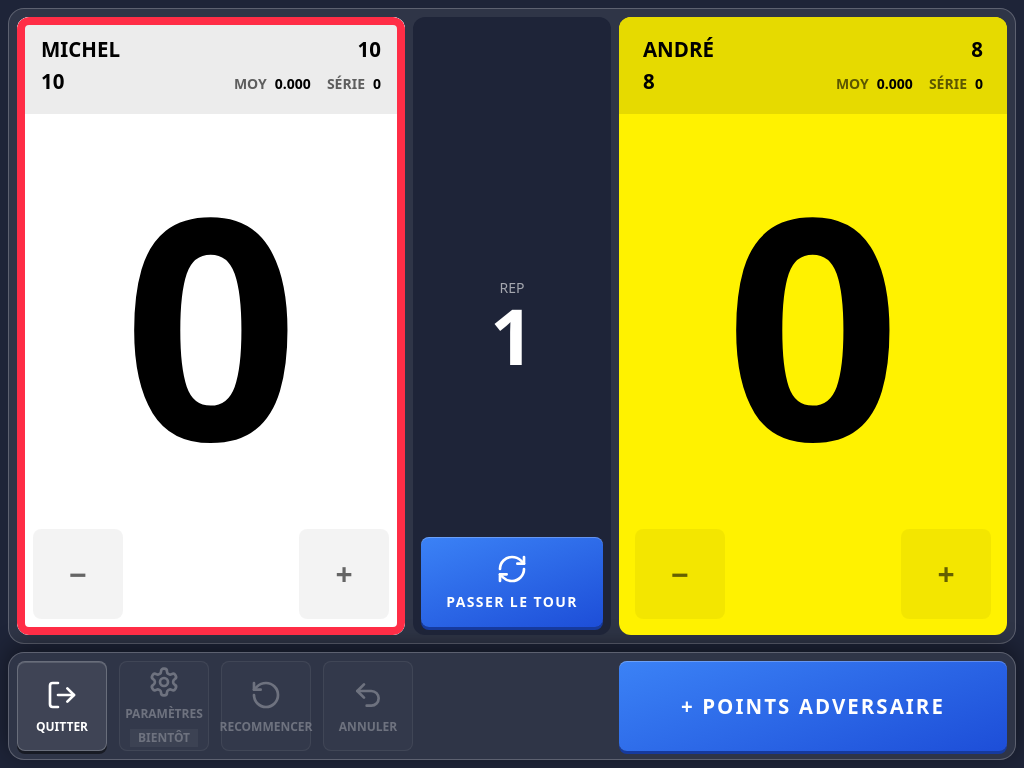
GameView — fin de partie › offers the equalizing reprise when the white player reaches his distance
Press the mouse on the button with test id "add-points-button" at (813, 706), box [619,661,1007,751]
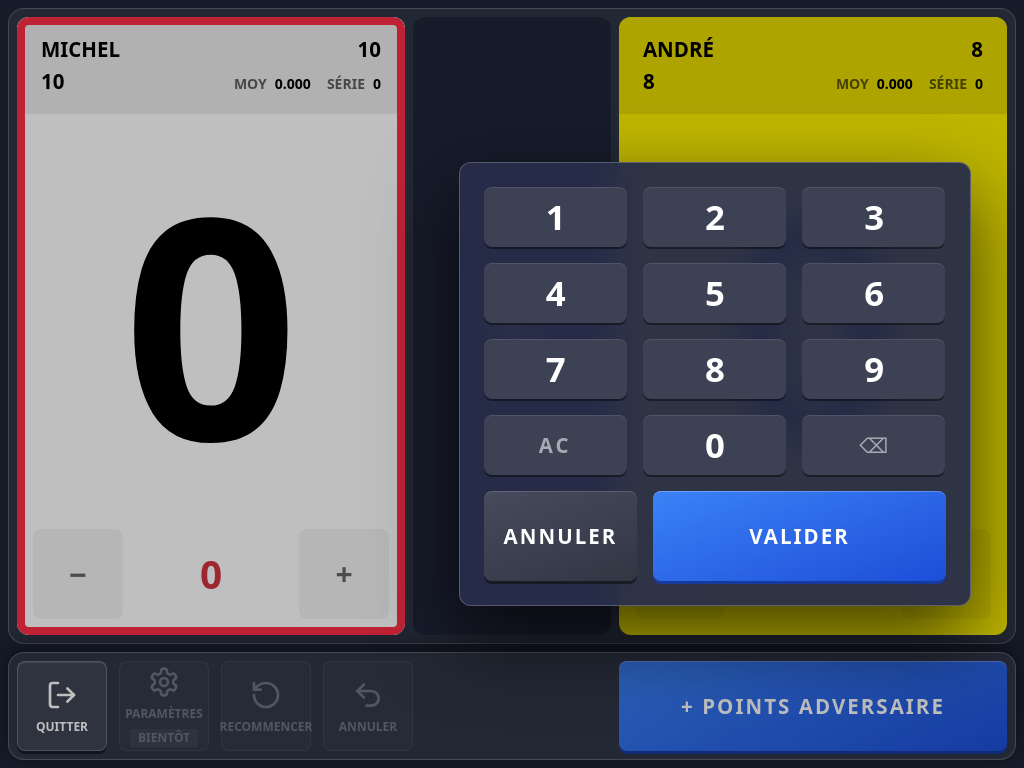
Press the mouse on the button with test id "digit-1" at (555, 217), box [484,187,627,247]
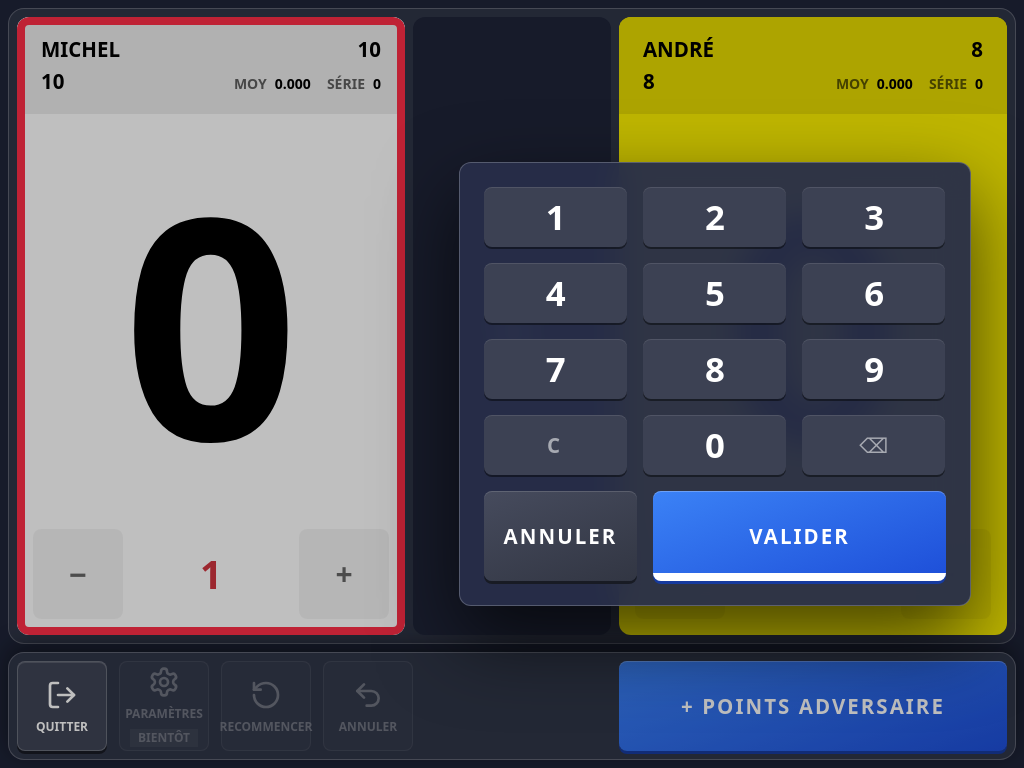
Press the mouse on the button "0" at (714, 445), box [643,415,786,475]
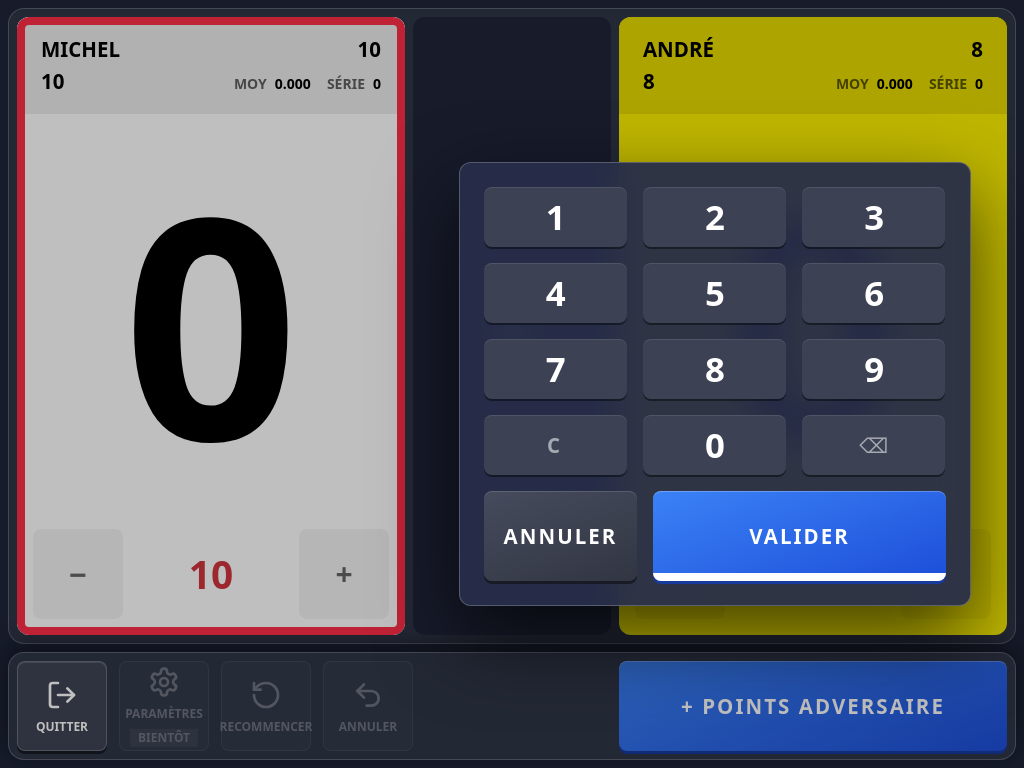
Press the mouse on the button with test id "entry-confirm-button" at (800, 536), box [654,491,946,581]
Wait 300 ms
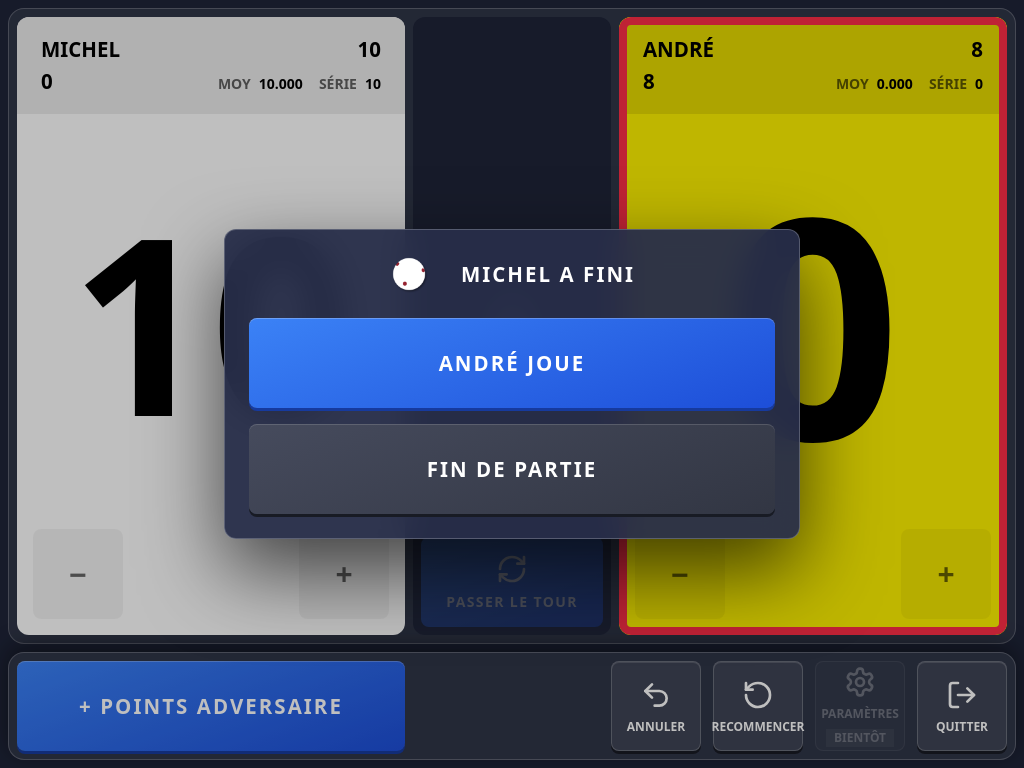
Expected: the dialog with test id "prompt-modal" is shown
Expected: the heading with test id "prompt-title" reads "MICHEL A FINI", [461,260,635,288]
Expected: the button with test id "prompt-primary" reads "ANDRÉ JOUE", [249,318,775,408]
